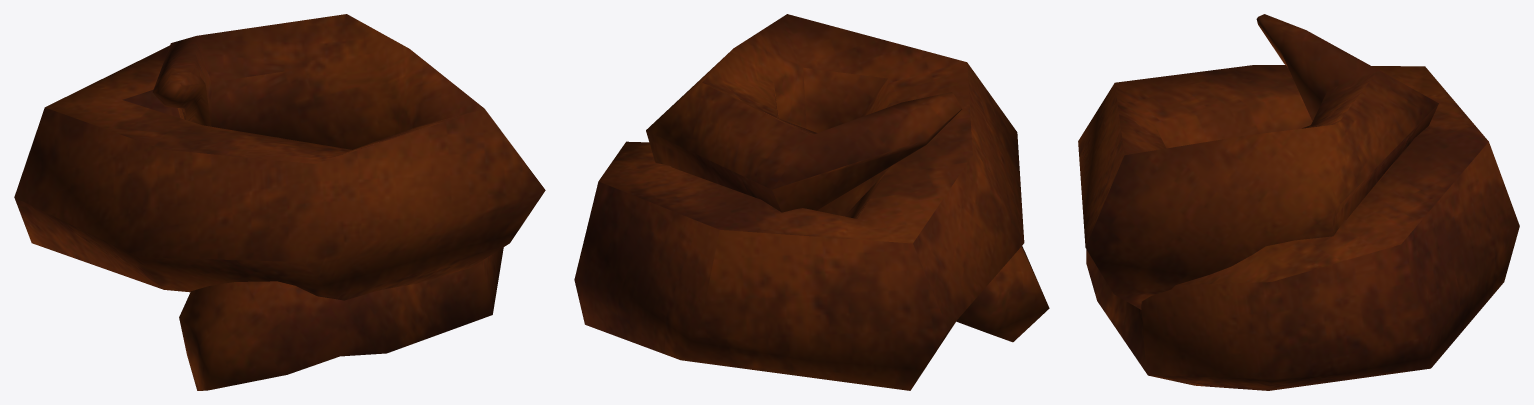
Rendered from poop.obj.
3 renders of one model, left to right at view 1: azimuth 30°, elevation 25°; view 2: azimuth 150°, elevation 25°; view 3: azimuth 270°, elevation 25°, orthographic. The views are drawn at different scales.
Visible parts, largest first — view 1: Poop; view 2: Poop; view 3: Poop.
Part boxes in pixels (x1=…): Poop: x1=14, y1=14, x2=545, y2=390; Poop: x1=574, y1=14, x2=1049, y2=390; Poop: x1=1078, y1=14, x2=1519, y2=390.
Size of the model in its own units: 12.56 by 7.92 by 11.99.
Materials: 1 (1 with a texture image).
